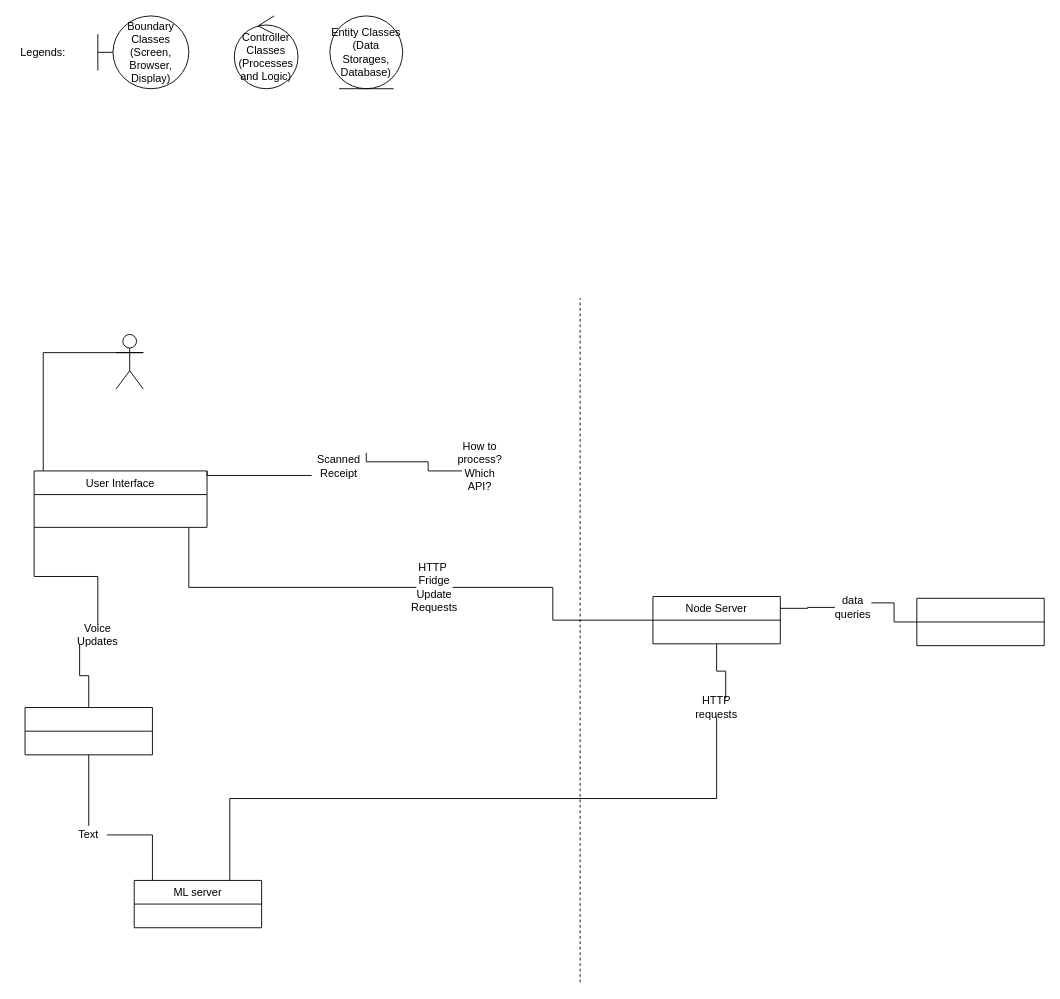
Some shapes in this 1060 by 999 pixel diagram are drawn without their labels. Each missing label, with the centre of its shape:
Amazon API: the point at 88,731
PostgreSQL database: the point at 980,621
Users: the point at 129,361
